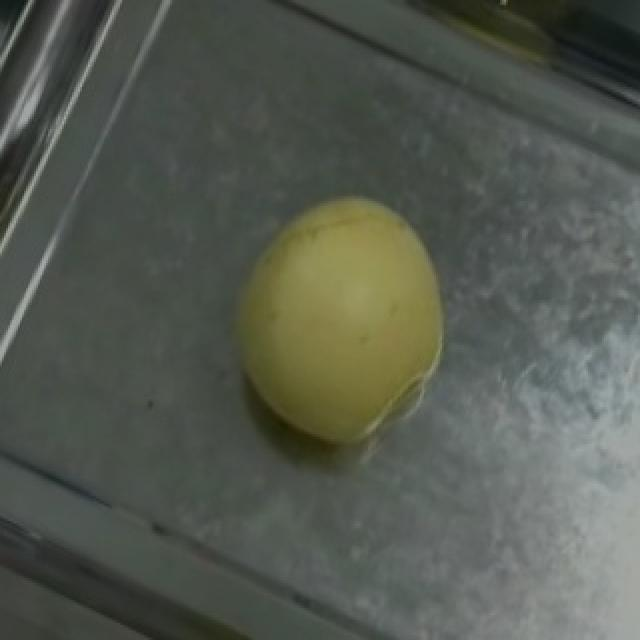Fruit: (184, 154, 496, 484)
